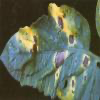Potato leaf early blight: (1, 0, 92, 99)
